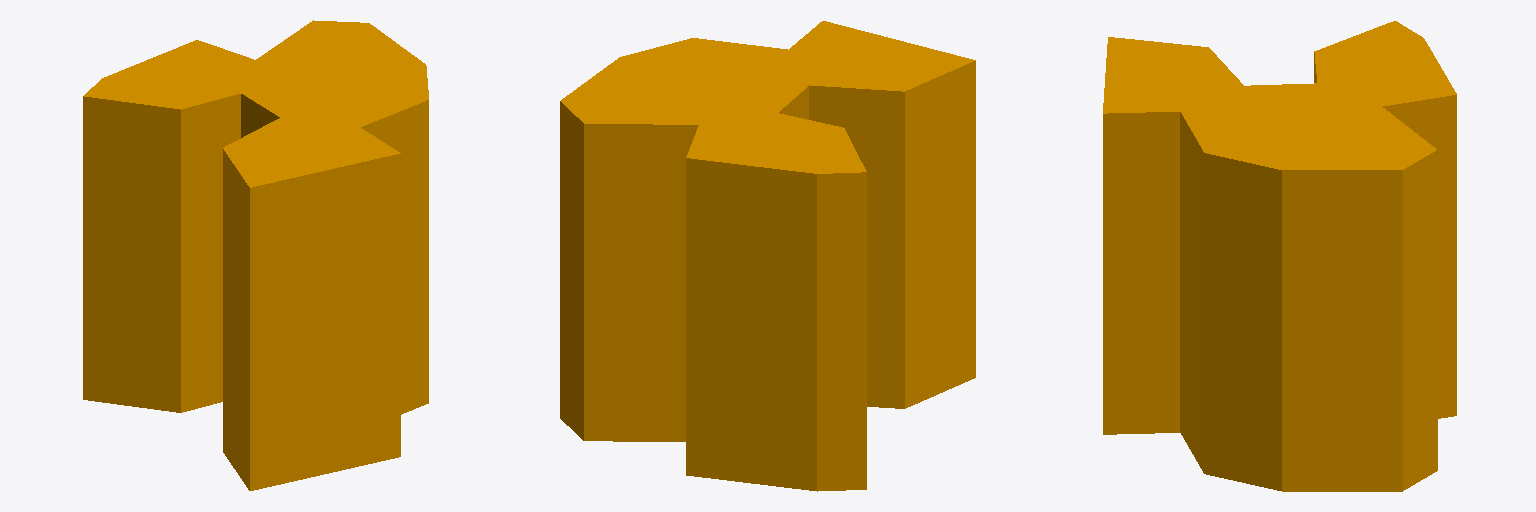
robot.urdf — object:
<?xml version="1.0"?>
<robot name="object">
  <link name="object">
    <visual>
      <origin xyz="0 0 0"/>
      <geometry>
        <mesh filename="meshes/polygon/poly_124_s.obj" scale=".03 .03 .03"/>
      </geometry>
    </visual>
    <collision>
  <origin xyz="0 0 0"/>
  <geometry>
    <mesh filename="meshes/polygon/poly_124_s_0decompose.obj" scale=".03 .03 .03"/>
<!--          <mesh filename="meshes/custom/obj0_ball.obj" scale=".05 .05 .05"/>-->
  </geometry>
</collision><collision>
  <origin xyz="0 0 0"/>
  <geometry>
    <mesh filename="meshes/polygon/poly_124_s_1decompose.obj" scale=".03 .03 .03"/>
<!--          <mesh filename="meshes/custom/obj0_ball.obj" scale=".05 .05 .05"/>-->
  </geometry>
</collision><collision>
  <origin xyz="0 0 0"/>
  <geometry>
    <mesh filename="meshes/polygon/poly_124_s_2decompose.obj" scale=".03 .03 .03"/>
<!--          <mesh filename="meshes/custom/obj0_ball.obj" scale=".05 .05 .05"/>-->
  </geometry>
</collision>

<!--    <collision>-->
<!--      <origin xyz="0 0 0"/>-->
<!--      <geometry>-->
<!--        <mesh filename="meshes/polygon/poly_124_s.obj" scale=".03 .03 .03"/>-->
<!--&lt;!&ndash;          <mesh filename="meshes/custom/obj0_ball.obj" scale=".05 .05 .05"/>&ndash;&gt;-->
<!--      </geometry>-->
<!--    </collision>-->
    <inertial>
      <density value="1000.0"/>
    </inertial>
  </link>
</robot>

--- Facts derived from the render (not from the file) ---
The picture shows the robot from 3 angles, left to right: view 1: azimuth 30°, elevation 25°; view 2: azimuth 150°, elevation 25°; view 3: azimuth 270°, elevation 25°; orthographic projection.
Robot: object — 1 links, 0 joints (none); root link object; default pose: every joint at zero.
Links seen in each view (by area): view 1: object; view 2: object; view 3: object.
Link boxes in pixels (x1,y1,x2,y2): object: (83, 20, 428, 490); object: (560, 21, 975, 491); object: (1103, 21, 1456, 491).
Size in the robot's own frame: 0.06 by 0.06 by 0.06 metres.
Meshes: 1 distinct files referenced, 1 mesh visuals loaded (1 OBJ).
